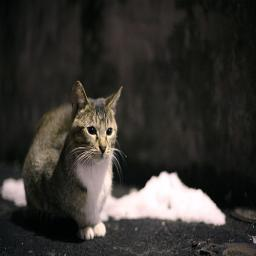catnose: (99, 146, 107, 154)
